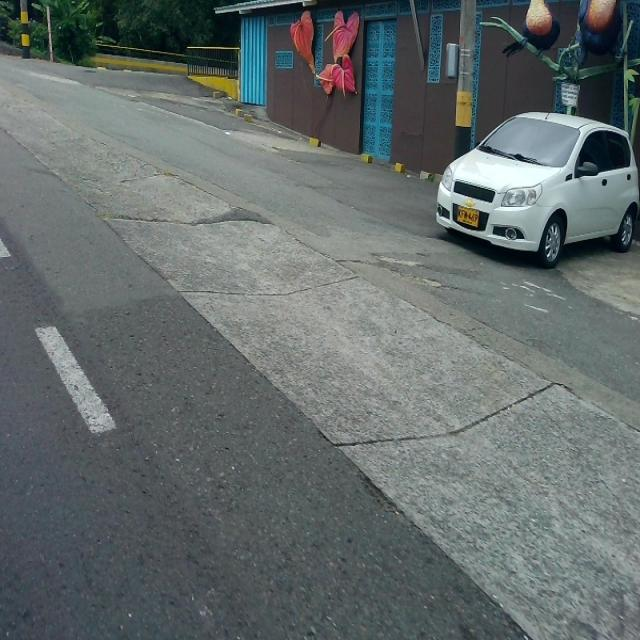DITCH: (1, 39, 638, 637), (2, 54, 638, 638)
